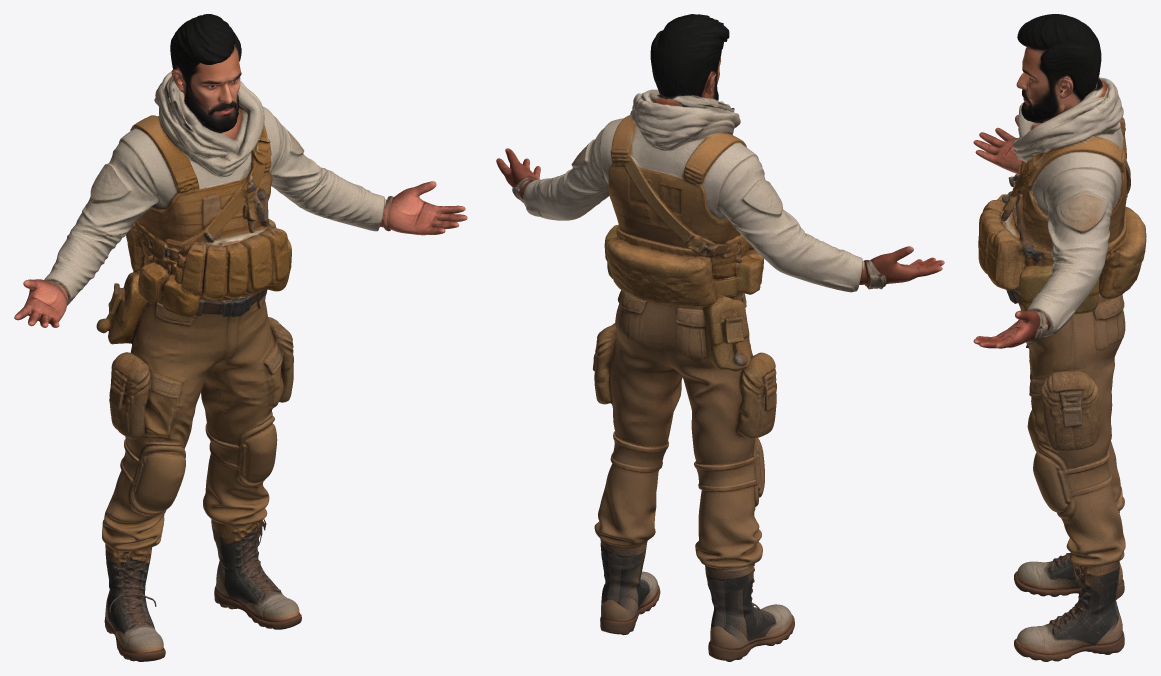
Rendered from char_t.glb.
The picture shows the model from 3 angles, left to right: view 1: azimuth 30°, elevation 25°; view 2: azimuth 150°, elevation 25°; view 3: azimuth 270°, elevation 25°; orthographic projection.
Visible parts, largest first — view 1: output_unwrapped; view 2: output_unwrapped; view 3: output_unwrapped.
Boxes of the visible parts, box(x1,y1,x2,y2) form: output_unwrapped: box(14, 14, 467, 661); output_unwrapped: box(496, 14, 944, 661); output_unwrapped: box(973, 14, 1146, 661).
Bounding box in the file's own units: 1.46 × 1.9 × 0.4892.
1 material, 1 textured.
